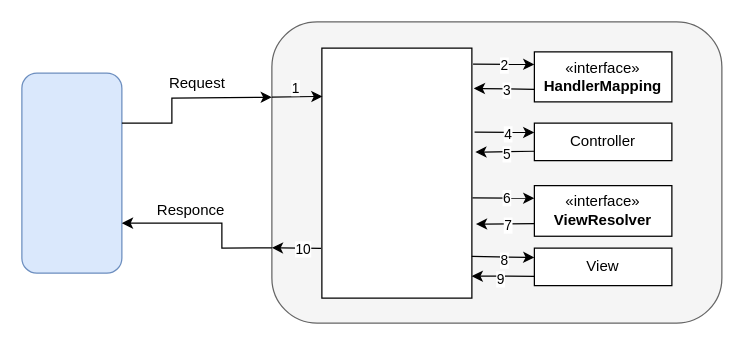
Some shapes in this 744 by 345 pixel diagram are drawn without their labels. The shapes that lost their labels are listed below. From the top down, each one's box as (x1, y1, x2, y2) in pixels, then its label:
(21, 72, 122, 273): Client
(321, 47, 472, 298): DispatcherServlet (FrontController)
